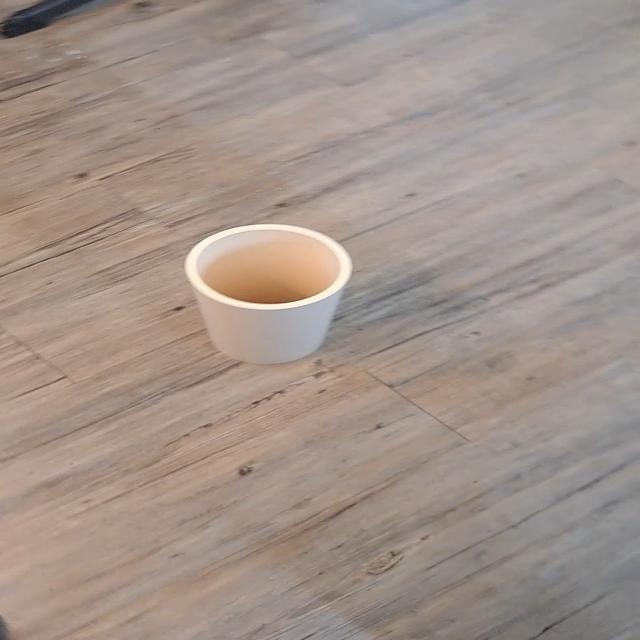CORAL: (161, 209, 371, 374)
